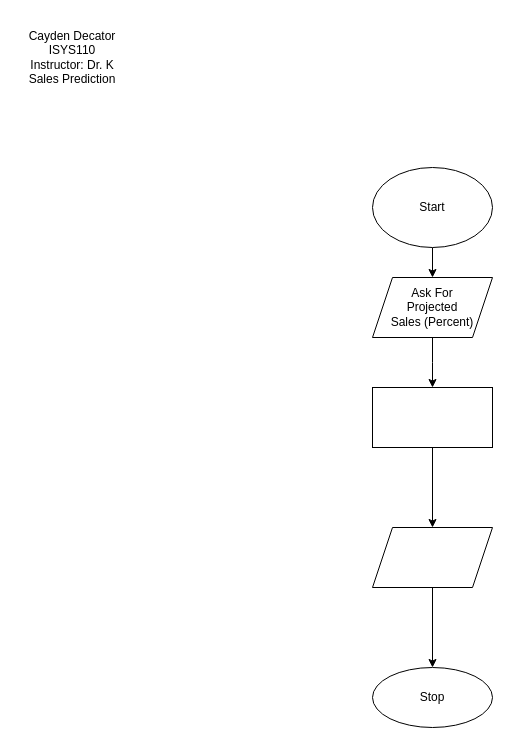
The diagram is 510 pixels wide and 745 high, and some of its shapes have lost their labels. Each missing label, with the box of its shape:
Calculate the Projected Profit: (372, 386, 492, 448)
Display the Projected Profits: (372, 526, 492, 588)
